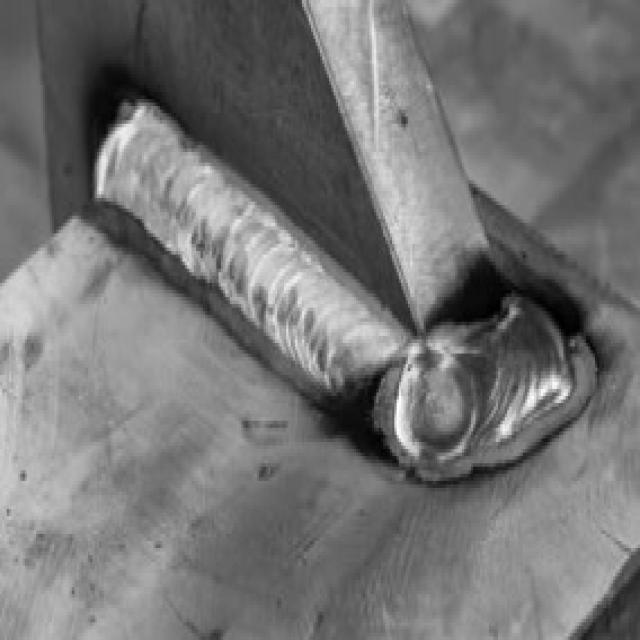Bad Welding: (380, 290, 590, 470)
Good Welding: (90, 95, 334, 375)
